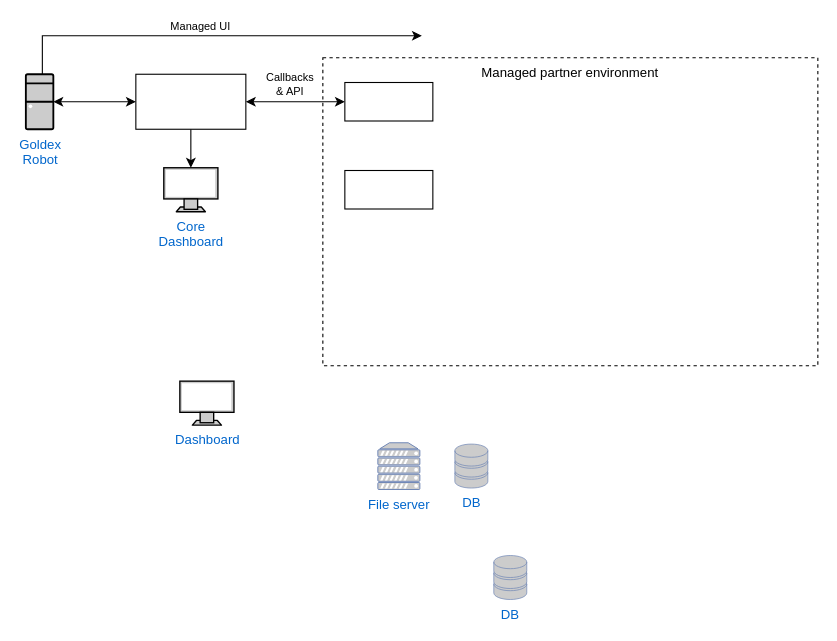
Some shapes in this 837 by 641 pixel diagram are drawn without their labels. The centre of each missing label's shape, as x and y in pixels:
"Auth Proxy" goes at (x=388, y=101).
"Buyout" goes at (x=388, y=189).
"Core Backend" goes at (x=190, y=101).
